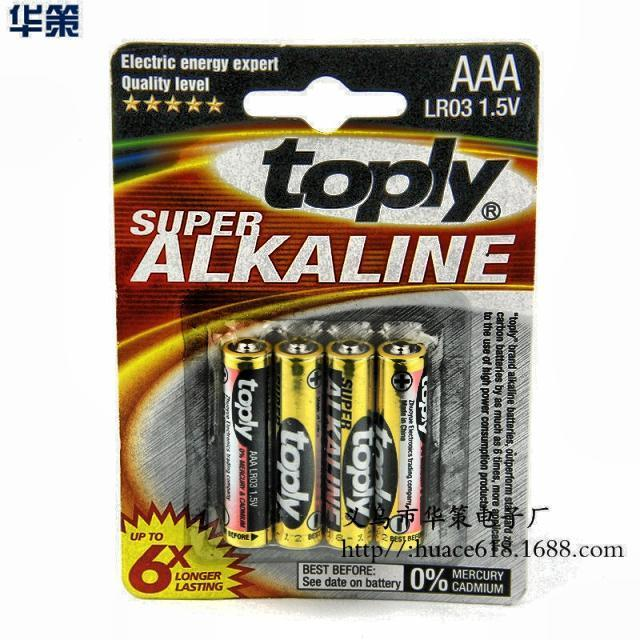battery: (375, 340, 428, 550), (221, 338, 272, 547), (274, 339, 324, 548), (325, 339, 375, 548)
